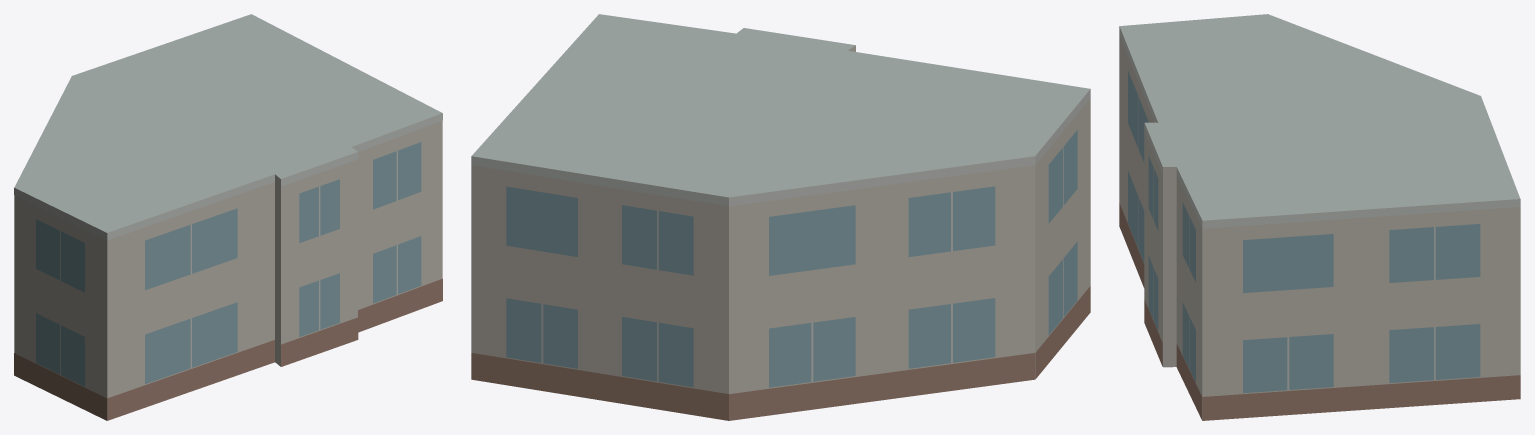
The model's file is survey-upis-32917829.glb.
3 renders of one model, left to right at view 1: azimuth 30°, elevation 25°; view 2: azimuth 150°, elevation 25°; view 3: azimuth 270°, elevation 25°, orthographic. The views are drawn at different scales.
Visible parts, largest first — view 1: survey-upis-32917829.tmp; view 2: survey-upis-32917829.tmp; view 3: survey-upis-32917829.tmp.
Boxes of the visible parts, x1=… form: survey-upis-32917829.tmp: x1=14, y1=14, x2=442, y2=420; survey-upis-32917829.tmp: x1=471, y1=14, x2=1090, y2=420; survey-upis-32917829.tmp: x1=1119, y1=14, x2=1520, y2=420.
Size of the model in its own units: 13.52 by 6.1 by 11.09.
